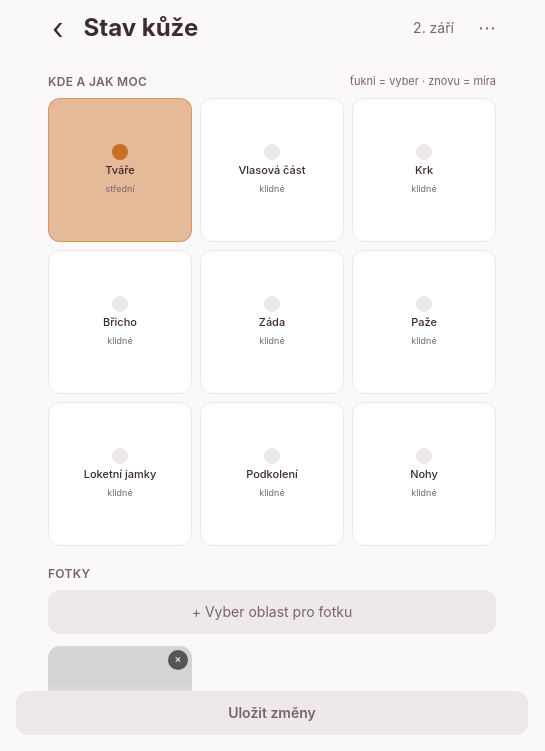
Test: skin/+page.svelte — region grid › tapping Undo restores a persisted photo to active state
This screenshot has width=545, height=751.
Click the button with test id "skin-photo-delete-0".
click(178, 660)  # box [168,650,188,670]
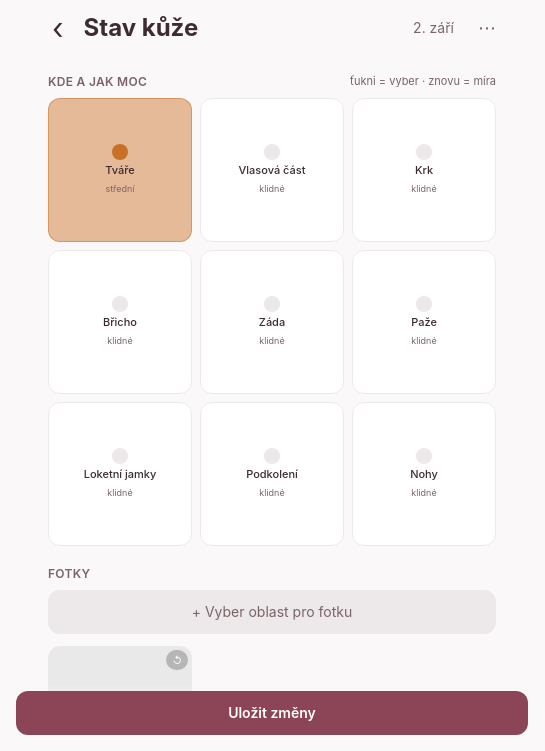
Click the button with test id "skin-photo-undo-0".
click(177, 660)  # box [166,650,188,670]
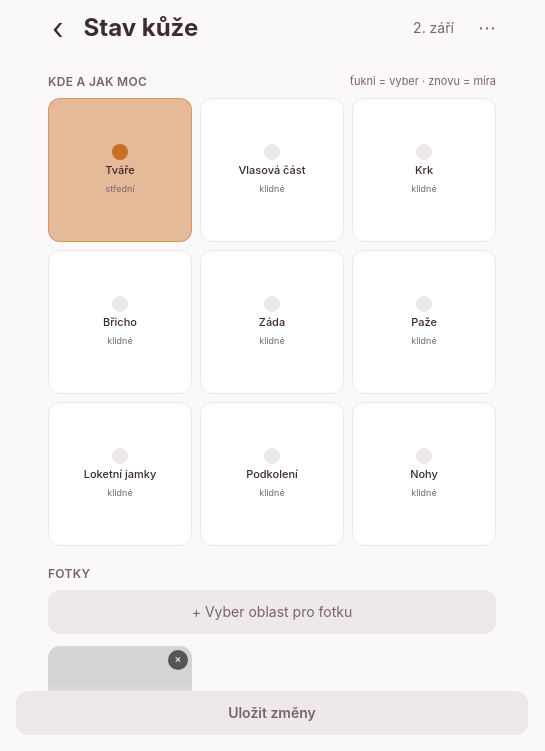
Expected: the button with test id "skin-photo-delete-0" is shown, [168,650,188,670]
Expected: the button with test id "skin-save" is disabled, [16,691,528,735]
